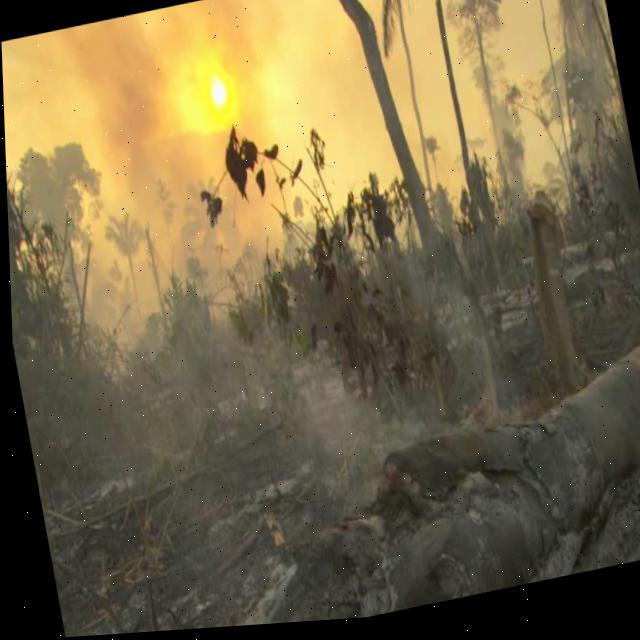smoke: (1, 0, 640, 569)
